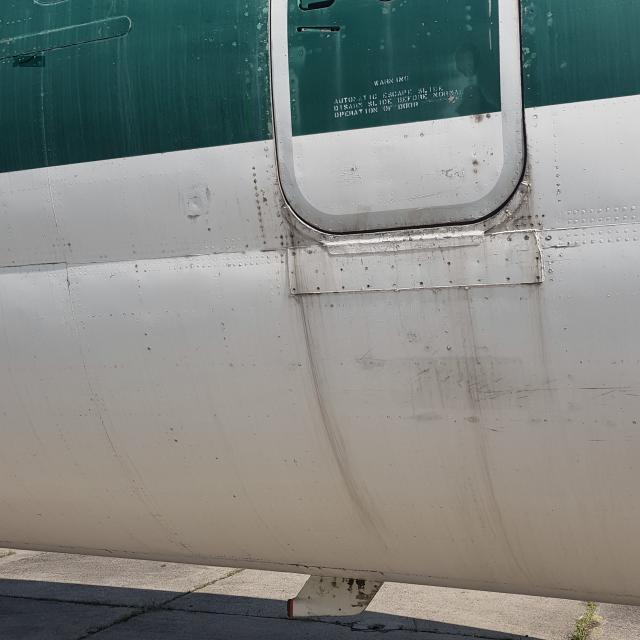crack: (14, 57, 46, 68)
